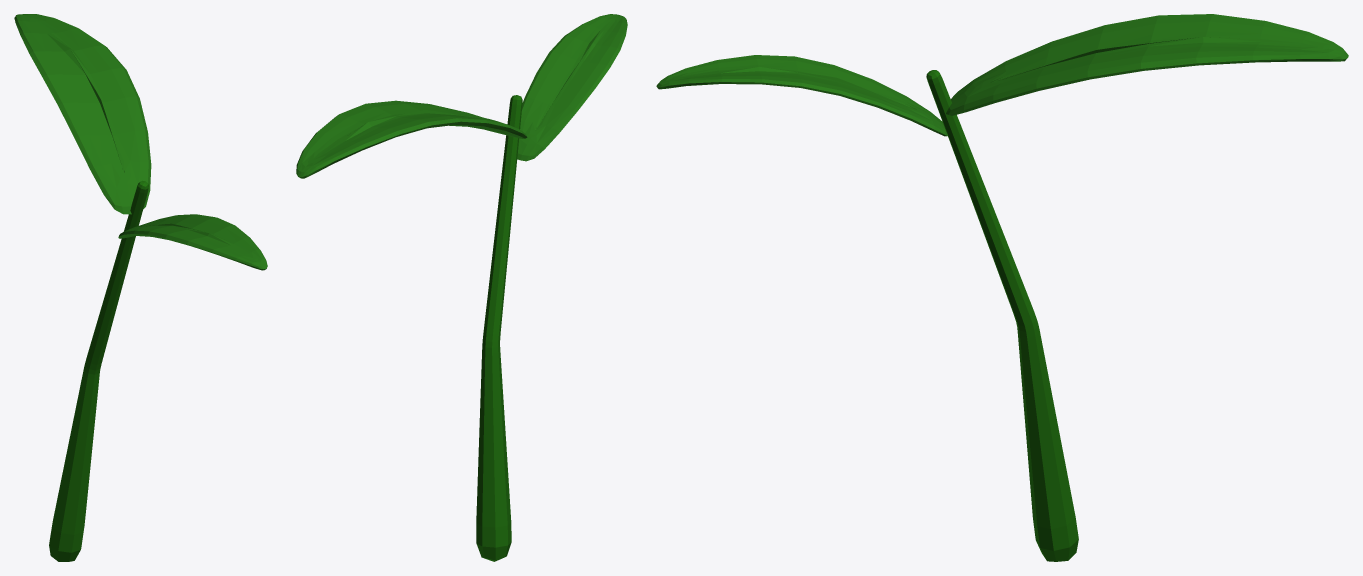
Rendered from Grass0.0.fbx.
The picture shows the model from 3 angles, left to right: view 1: azimuth 30°, elevation 25°; view 2: azimuth 150°, elevation 25°; view 3: azimuth 270°, elevation 25°; orthographic projection. The views are drawn at different scales.
Parts seen in each view (by area): view 1: Plane, Cube, Plane.001; view 2: Cube, Plane.001, Plane; view 3: Plane, Cube, Plane.001.
Part boxes in pixels (x1,y1,x2,y2): Plane: [14, 14, 151, 214]; Cube: [49, 180, 148, 561]; Plane.001: [118, 214, 267, 270]; Cube: [476, 95, 522, 561]; Plane.001: [517, 14, 627, 161]; Plane: [296, 100, 527, 178]; Plane: [946, 14, 1348, 115]; Cube: [926, 70, 1078, 561]; Plane.001: [656, 55, 947, 136].
Size of the model in its own units: 101 by 392 by 434.
